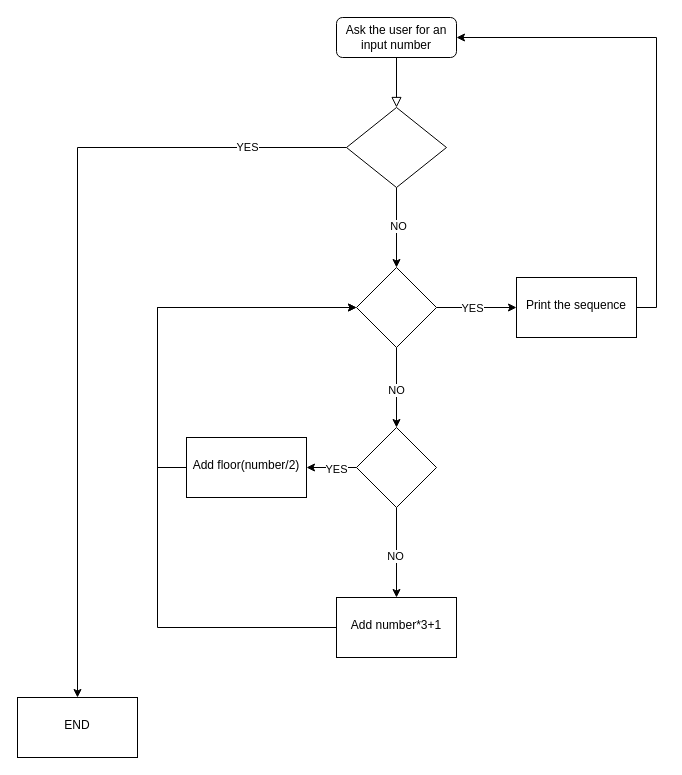
The diagram is 682 pixels wide and 775 high, and some of its shapes have lost their labels. Here are the shapes that lost their labels. From the top down, the centre of each, then its label:
At point (396, 147): "Number<=0?".
At point (396, 307): "Number = 1?".
At point (396, 467): "Number is even?".
